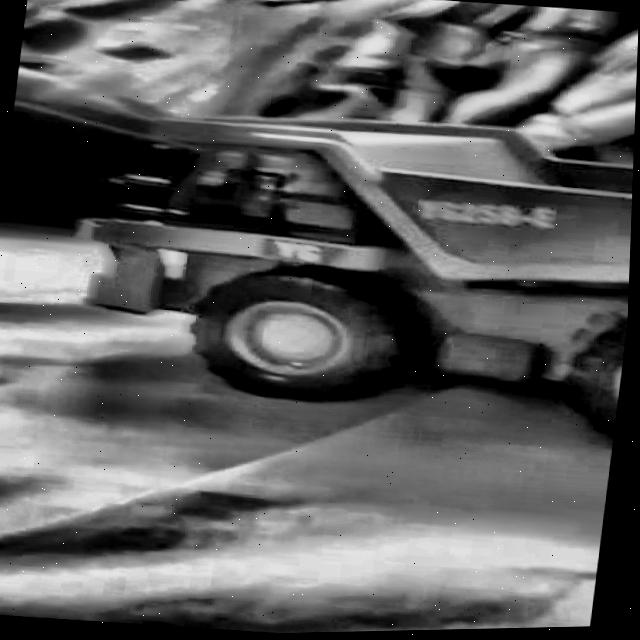dump_truck: (50, 77, 637, 455)
